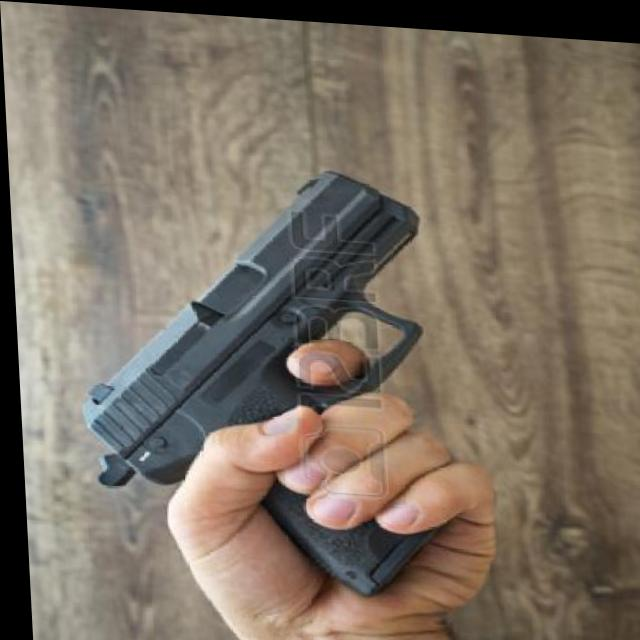handgun: (63, 150, 439, 595)
